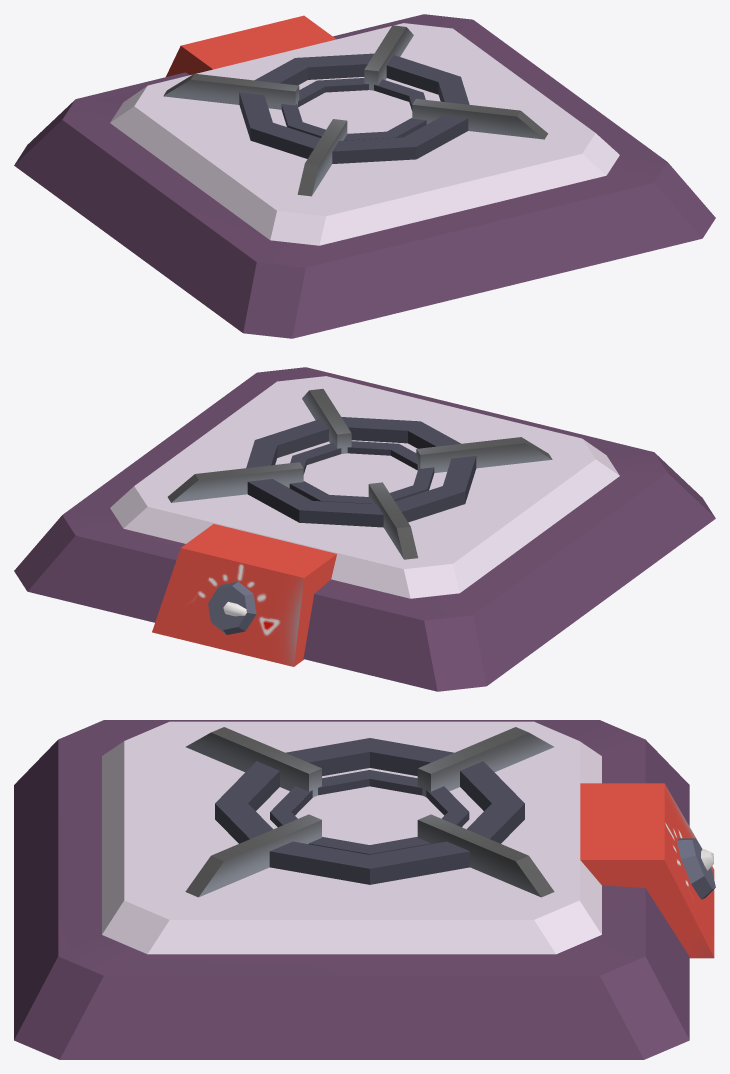
Rendered from stove.fbx.
3 renders of one model, top to bottom at view 1: azimuth 30°, elevation 25°; view 2: azimuth 150°, elevation 25°; view 3: azimuth 270°, elevation 25°, orthographic. The views are drawn at different scales.
Visible parts, largest first — view 1: polySurface57; view 2: polySurface57, polySurface52; view 3: polySurface57, polySurface52.
Part boxes in pixels (x1,y1,x2,y2): polySurface57: (14,14,715,338); polySurface57: (14,367,715,691); polySurface52: (208,581,256,634); polySurface57: (14,720,714,1059); polySurface52: (677,838,715,899).
Size of the model in its own units: 0.8394 by 0.1576 by 0.8462.
